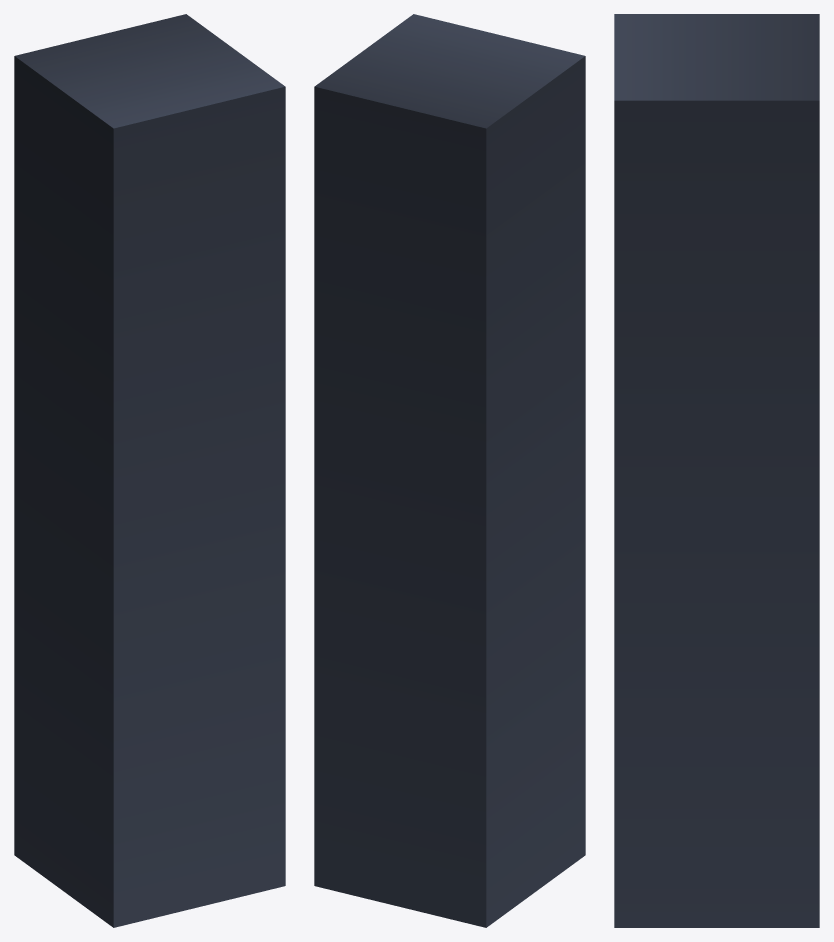
File: KIT_Pillar_Square_0.9.glb
The picture shows the model from 3 angles, left to right: view 1: azimuth 30°, elevation 25°; view 2: azimuth 150°, elevation 25°; view 3: azimuth 270°, elevation 25°; orthographic projection. The views are drawn at different scales.
Visible parts, largest first — view 1: KIT_Pillar_Square_0.9; view 2: KIT_Pillar_Square_0.9; view 3: KIT_Pillar_Square_0.9.
Part boxes in pixels (left/top/right/bottom): KIT_Pillar_Square_0.9: left=14, top=14, right=285, bottom=927; KIT_Pillar_Square_0.9: left=314, top=14, right=585, bottom=927; KIT_Pillar_Square_0.9: left=614, top=14, right=819, bottom=927.
Bounding box in the file's own units: 0.9 × 4 × 0.9.
1 material, 1 textured.
